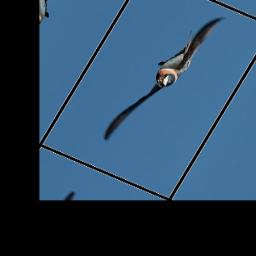Swallow: (101, 2, 228, 158)
